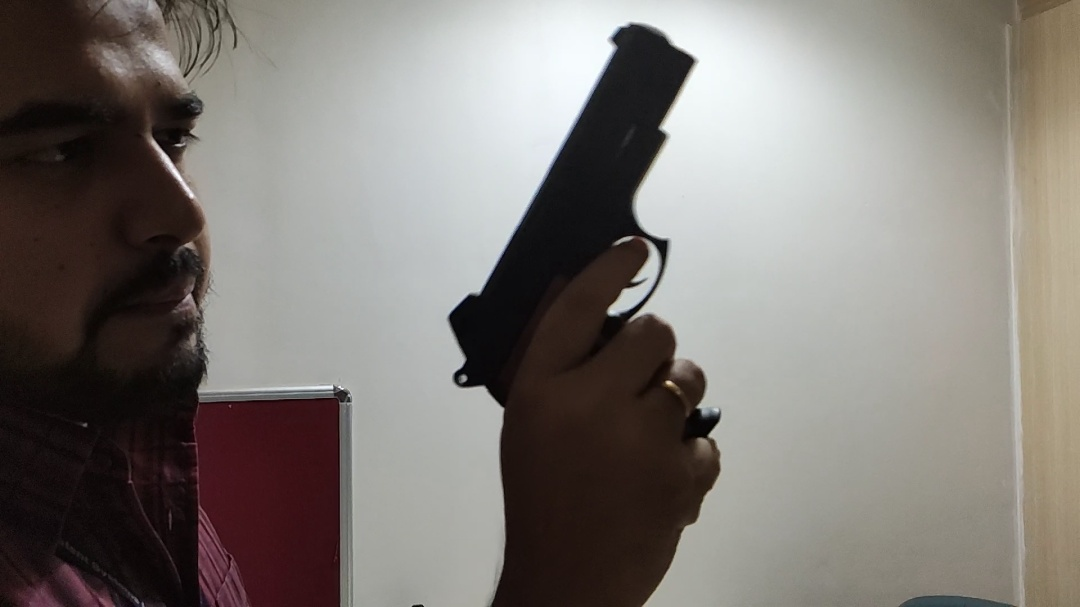gun: (446, 15, 724, 449)
